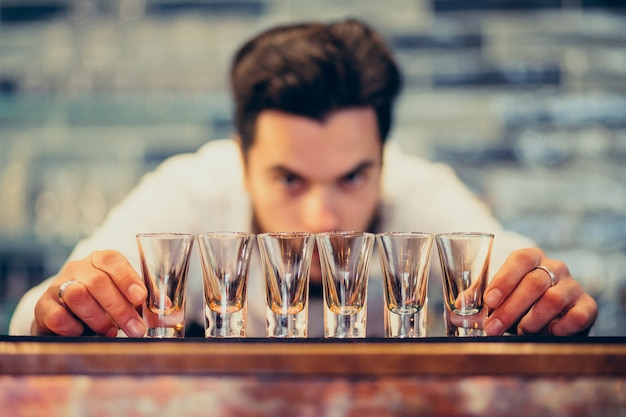alcohol: (317, 229, 377, 339), (375, 231, 436, 338), (198, 230, 258, 336), (133, 233, 193, 337), (436, 232, 494, 339), (259, 231, 317, 336)
